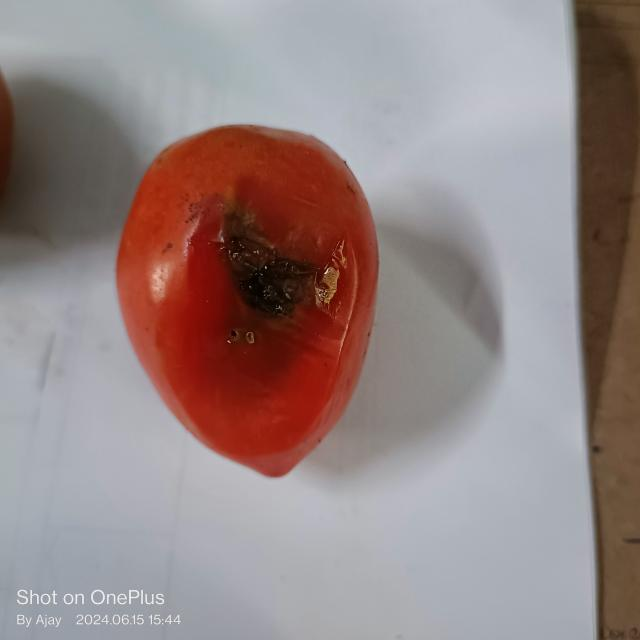Botrytis: (215, 204, 335, 314), (218, 324, 260, 349)
